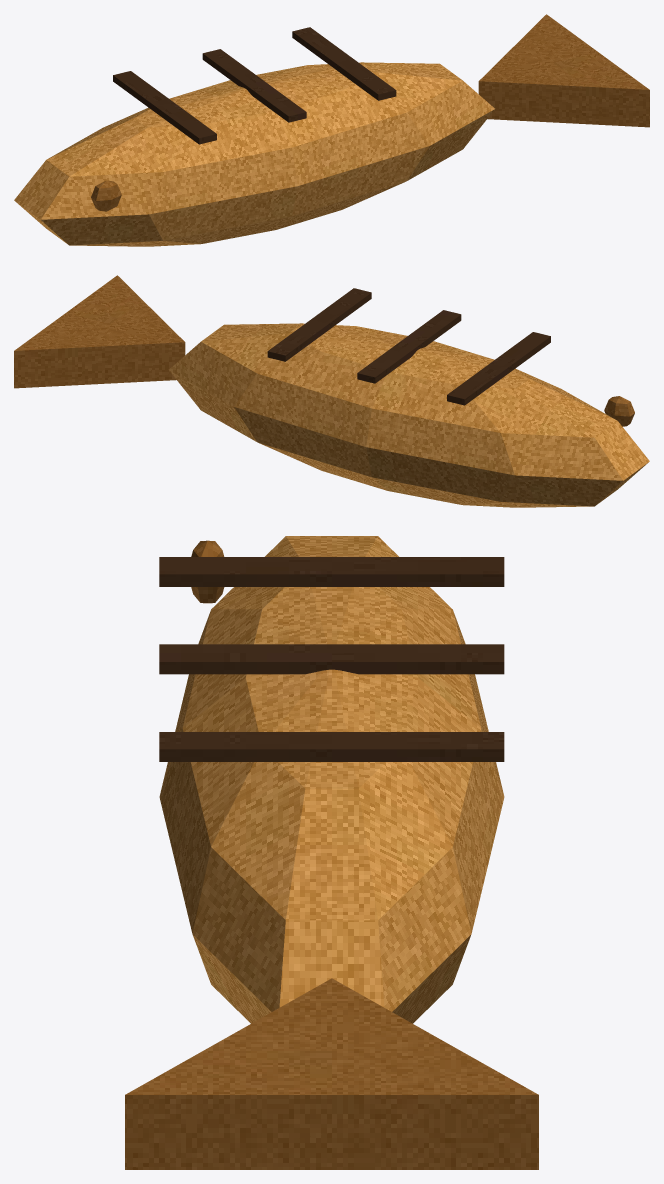
3 views of the same model, one above another, from view 1: azimuth 30°, elevation 25°; view 2: azimuth 150°, elevation 25°; view 3: azimuth 270°, elevation 25° (orthographic). The views are drawn at different scales.
Visible parts, largest first — view 1: fish_grilled; view 2: fish_grilled; view 3: fish_grilled.
Part boxes in pixels (<box>): fish_grilled: <box>14,14,649,246</box>; fish_grilled: <box>14,275,649,507</box>; fish_grilled: <box>125,536,538,1169</box>.
Size of the model in its own units: 0.1911 by 0.045 by 0.06.
Materials: 3 (3 with a texture image).
